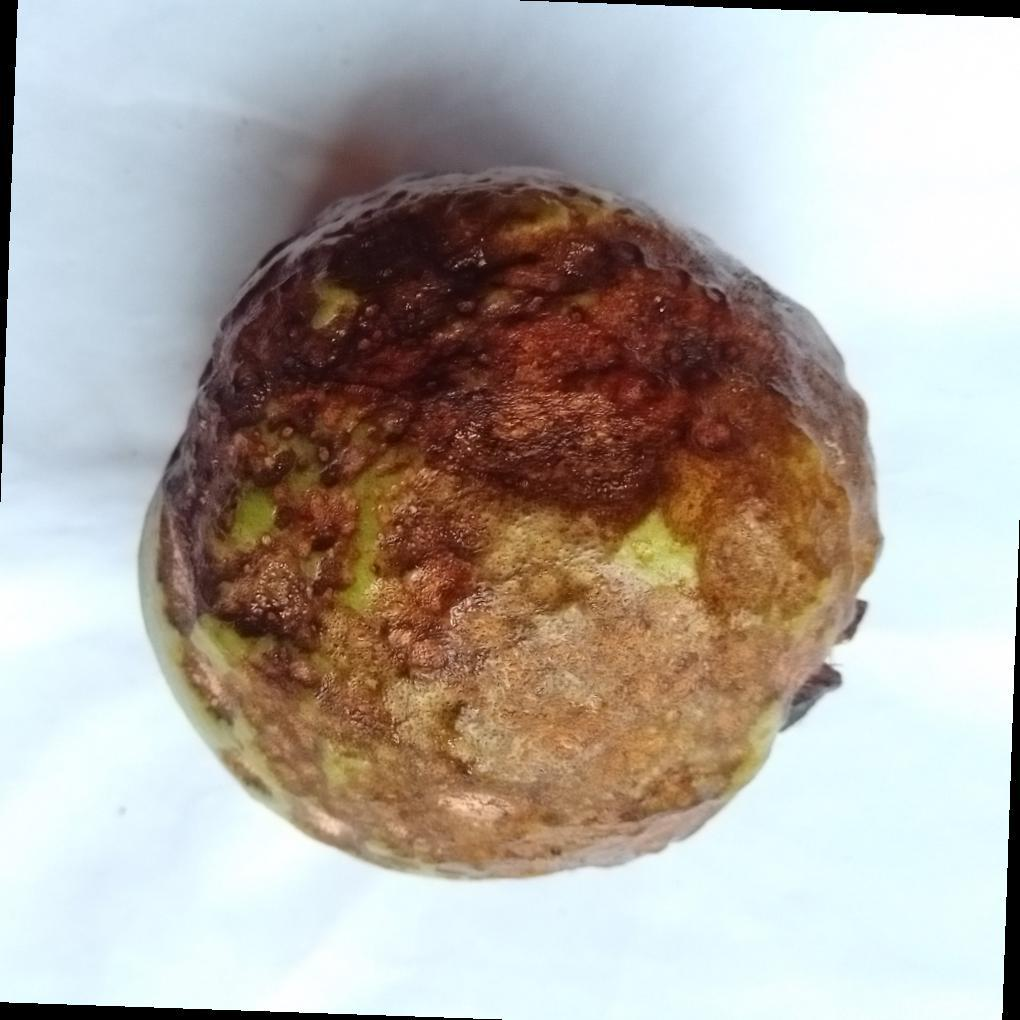FreshOrange: (136, 169, 886, 884)
